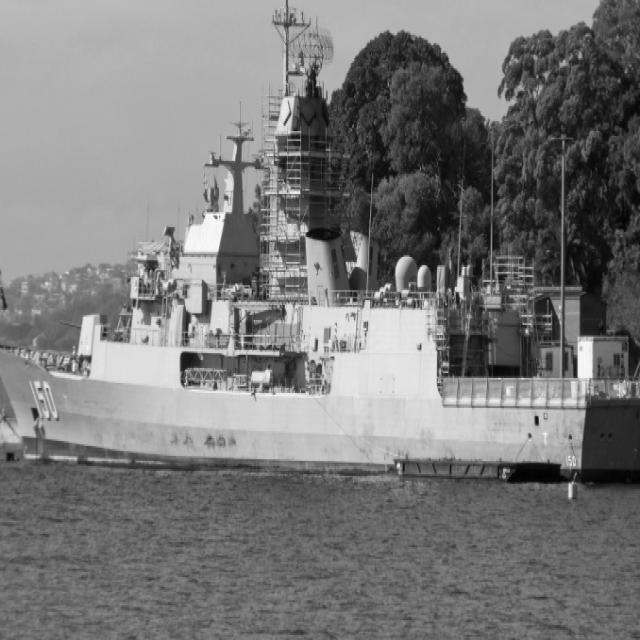Fragata: (1, 1, 640, 474)
